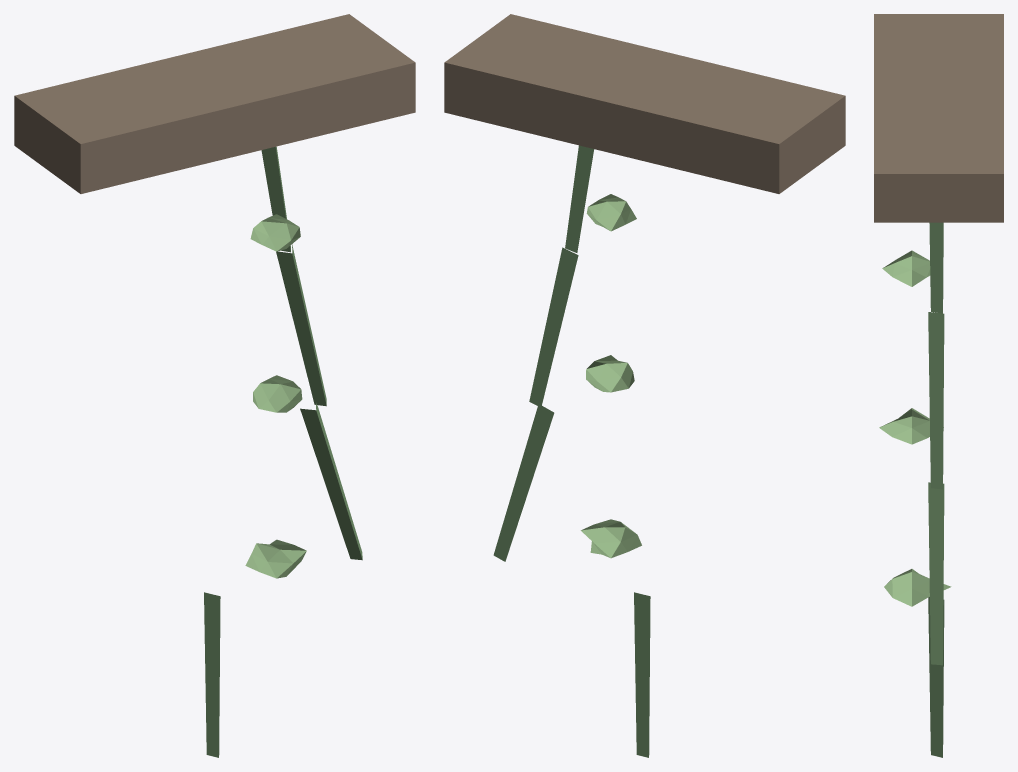
The model's file is vine_v27.glb.
3 views of the same model, side by side, from view 1: azimuth 30°, elevation 25°; view 2: azimuth 150°, elevation 25°; view 3: azimuth 270°, elevation 25° (orthographic). The views are drawn at different scales.
Parts seen in each view (by area): view 1: lod0; view 2: lod0; view 3: lod0.
Part boxes in pixels (<box>): lod0: <box>14,14,415,757</box>; lod0: <box>444,14,845,757</box>; lod0: <box>874,14,1003,757</box>.
Size of what is drawn, in the model's own units: 0.7 by 1.35 by 0.24.
